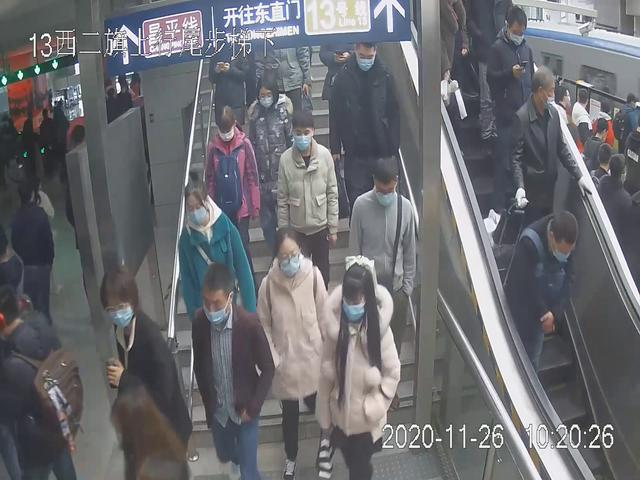person: (187, 259, 276, 480), (255, 228, 333, 480), (496, 64, 590, 270), (93, 267, 192, 461), (317, 252, 400, 480), (348, 152, 420, 384), (172, 167, 257, 360), (503, 203, 582, 405), (330, 35, 401, 234), (275, 109, 340, 306), (477, 3, 548, 181), (195, 97, 261, 280), (237, 70, 294, 242)
